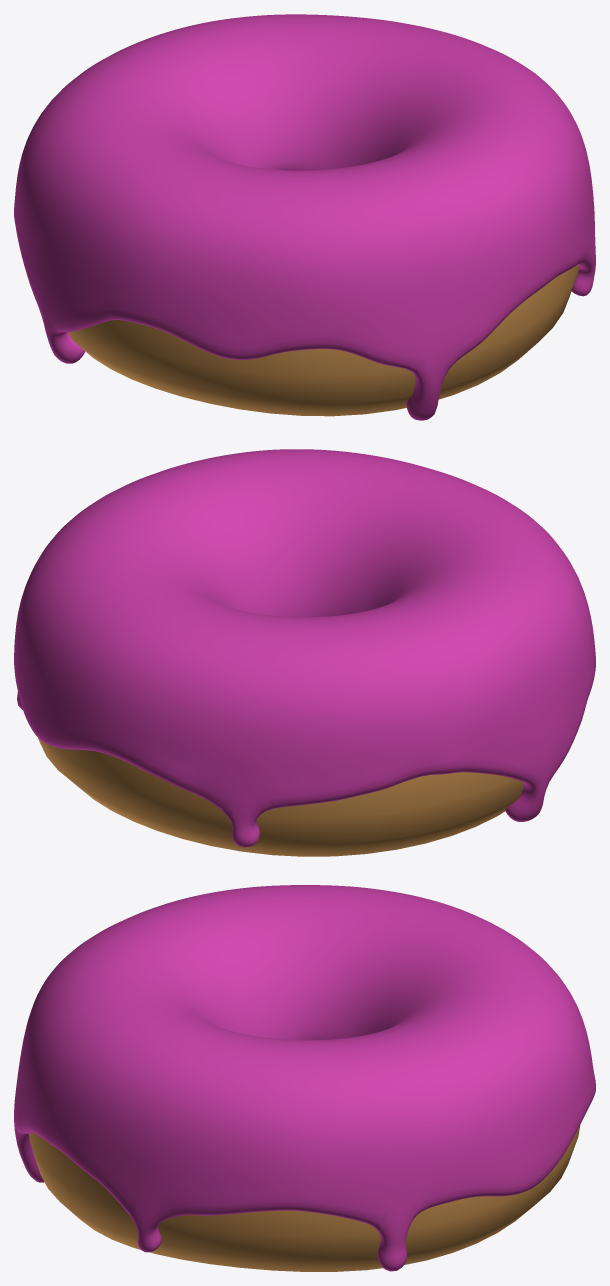
File: guru_tutorial.obj
3 renders of one model, top to bottom at view 1: azimuth 30°, elevation 25°; view 2: azimuth 150°, elevation 25°; view 3: azimuth 270°, elevation 25°, orthographic.
Parts seen in each view (by area): view 1: Icing, Donut; view 2: Icing, Donut; view 3: Icing, Donut.
Boxes of the visible parts, x1,y1,x2,y2 form: Icing: (14,14,595,420); Donut: (68,265,579,416); Icing: (14,449,595,847); Donut: (38,738,523,856); Icing: (14,885,595,1271); Donut: (29,1125,580,1271).
Size of the model in its own units: 0.2973 by 0.1278 by 0.3002.
